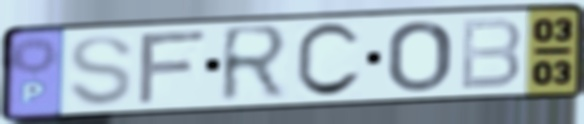B: (457, 15, 526, 93)
C: (292, 20, 365, 101)
F: (133, 26, 211, 108)
O: (385, 18, 455, 95)
R: (217, 21, 294, 108)
S: (65, 32, 137, 109)
